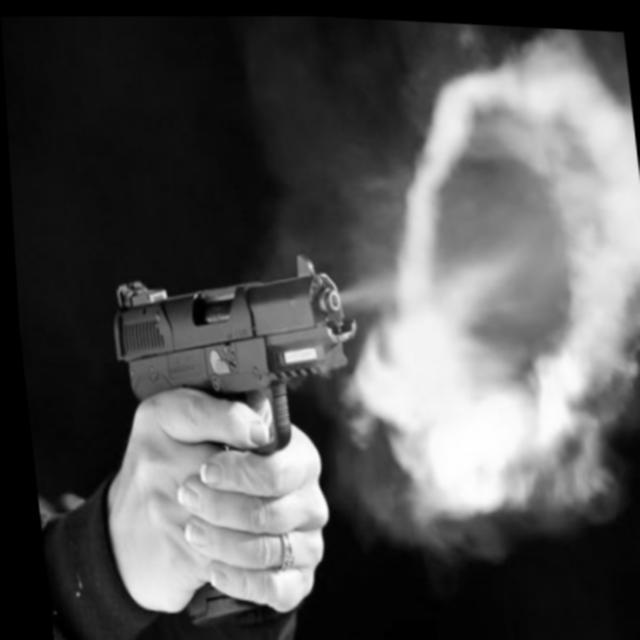weapon: (99, 238, 384, 635)
